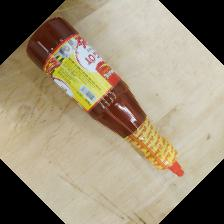Tuong: (26, 16, 186, 179)
